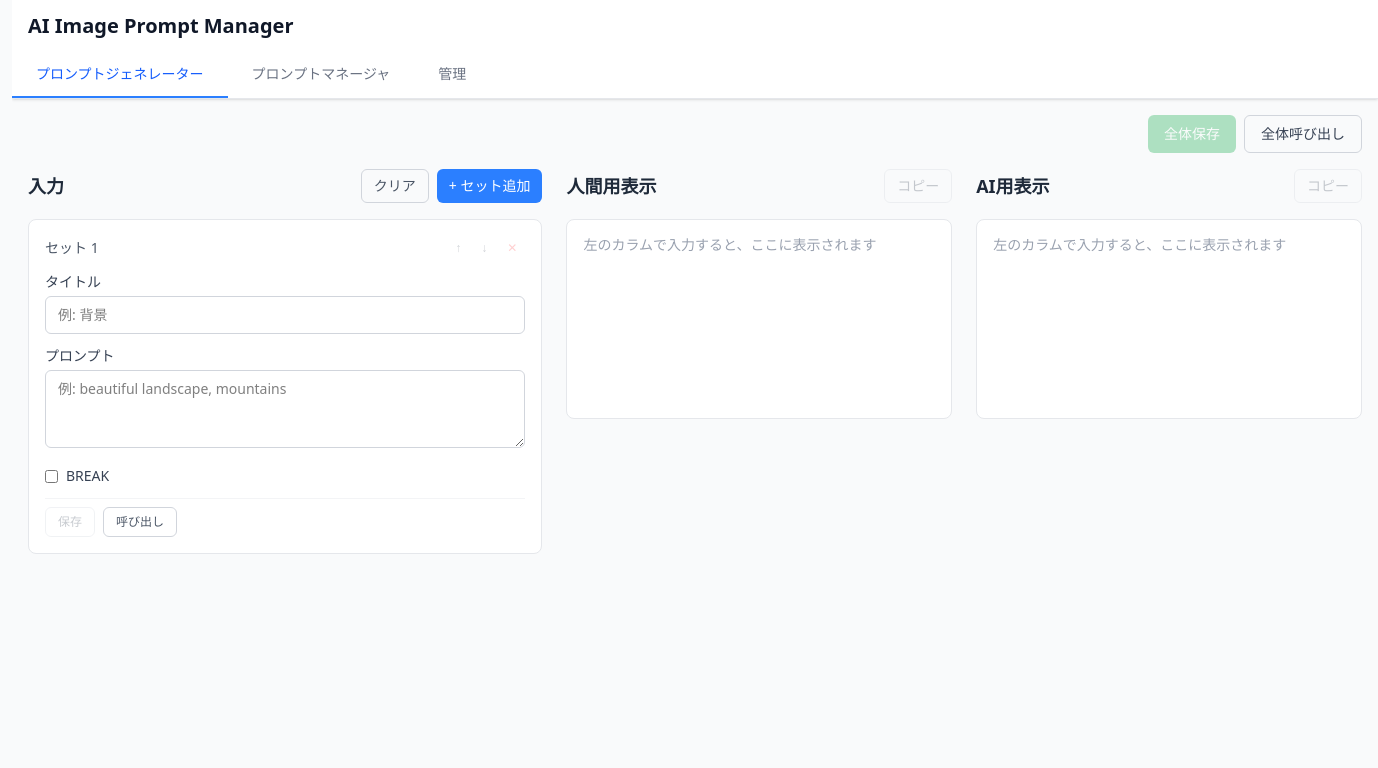
Scenario: App › タブクリックでパネルが切り替わる
Step 1. Click the tab "プロンプトマネージャ" → (321, 75), box x1=228 y1=52 x2=414 y2=98
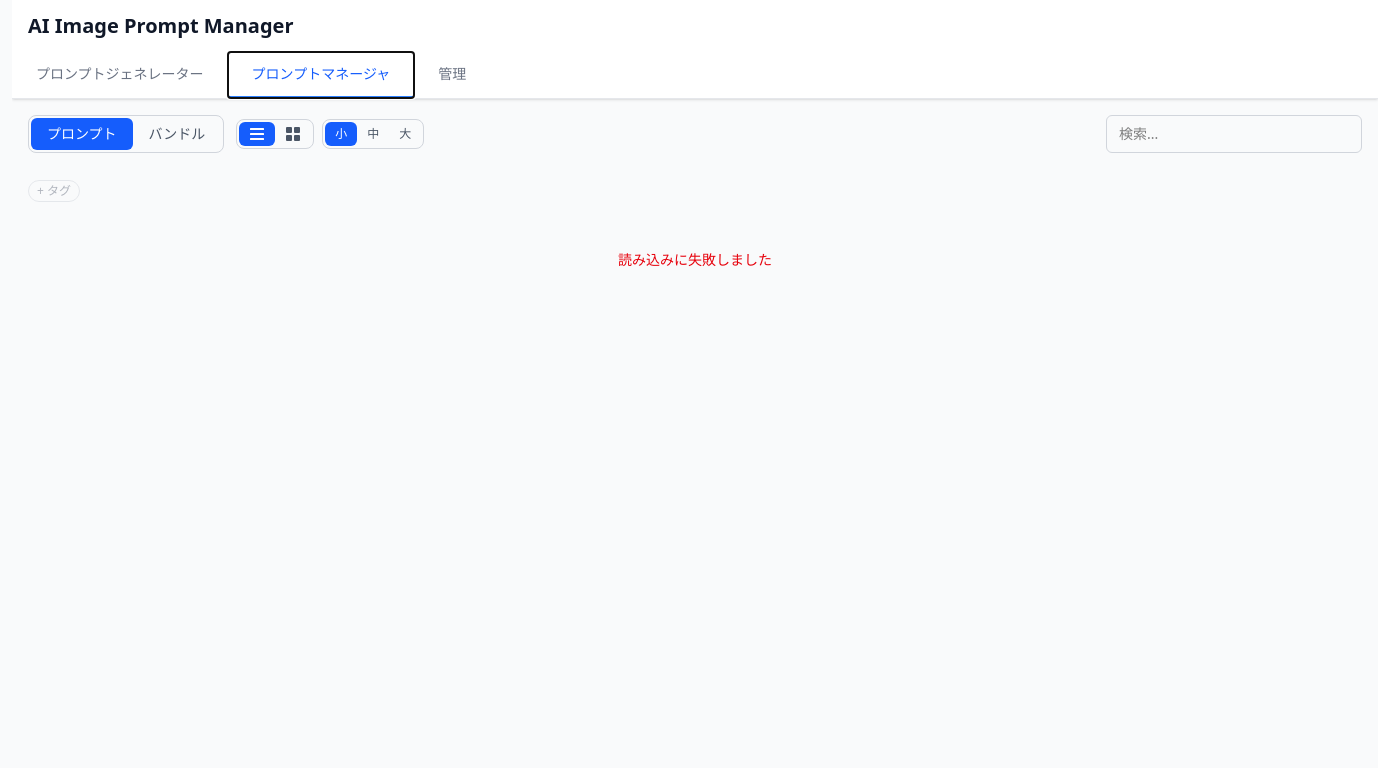
Expected: the element with test id "manager-panel" is shown, x1=28 y1=115 x2=1362 y2=302
Expected: the element with test id "generator-panel" is gone
